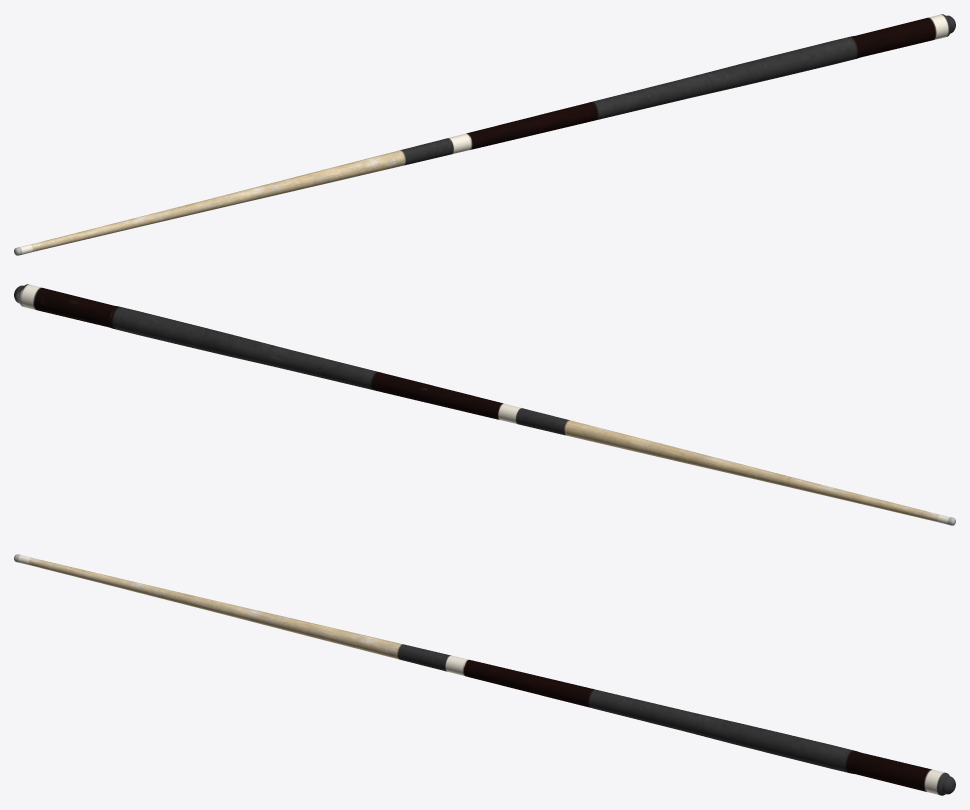
The model's file is cue_simple3.glb.
The picture shows the model from 3 angles, top to bottom: view 1: azimuth 30°, elevation 25°; view 2: azimuth 150°, elevation 25°; view 3: azimuth 330°, elevation 25°; orthographic projection.
Parts seen in each view (by area): view 1: cues3; view 2: cues3; view 3: cues3.
Boxes of the visible parts, x1,y1,x2,y2 form: cues3: (14, 14, 955, 255); cues3: (14, 284, 955, 525); cues3: (14, 554, 955, 795).
Size of the model in its own units: 1.81 by 0.039 by 0.039.
1 material, 1 textured.
